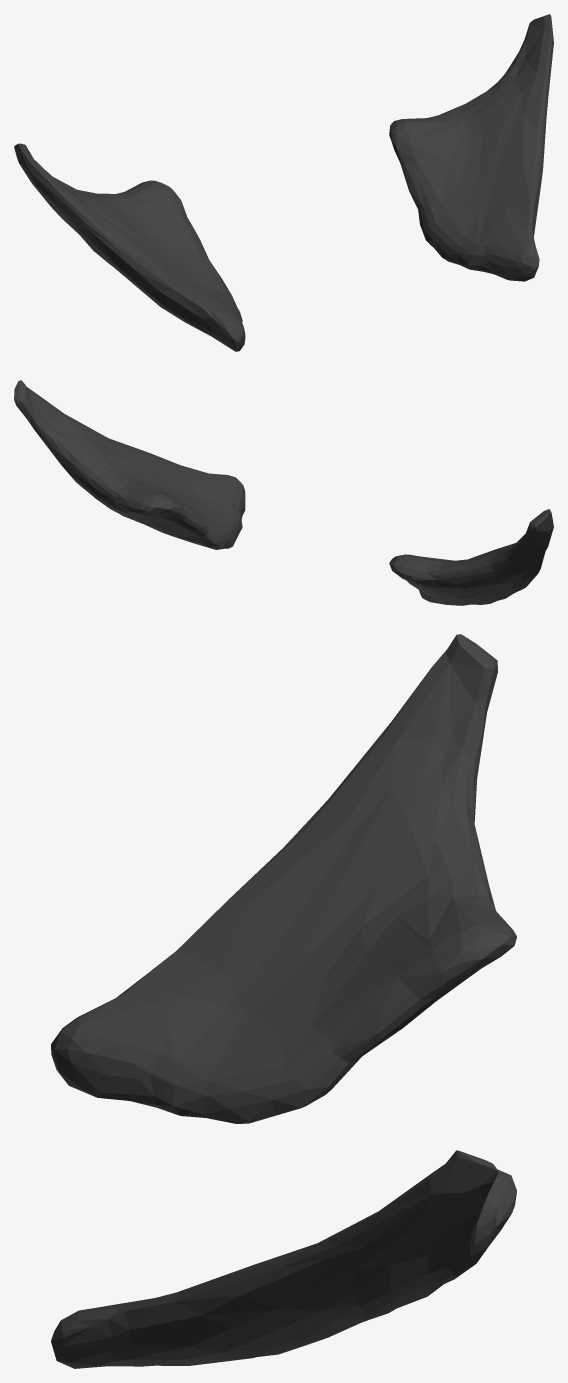
File: m_gluteus_profundus.glb
3 renders of one model, top to bottom at view 1: azimuth 30°, elevation 25°; view 2: azimuth 150°, elevation 25°; view 3: azimuth 270°, elevation 25°, orthographic. The views are drawn at different scales.
Visible parts, largest first — view 1: m_gluteus_profundus; view 2: m_gluteus_profundus; view 3: m_gluteus_profundus.
Boxes of the visible parts, x1,y1,x2,y2 form: m_gluteus_profundus: (14,14,553,351); m_gluteus_profundus: (14,380,553,605); m_gluteus_profundus: (51,634,516,1368).
Size of the model in its own units: 0.0048 by 0.00147 by 0.00182.
Materials: 1 (1 with a texture image).
